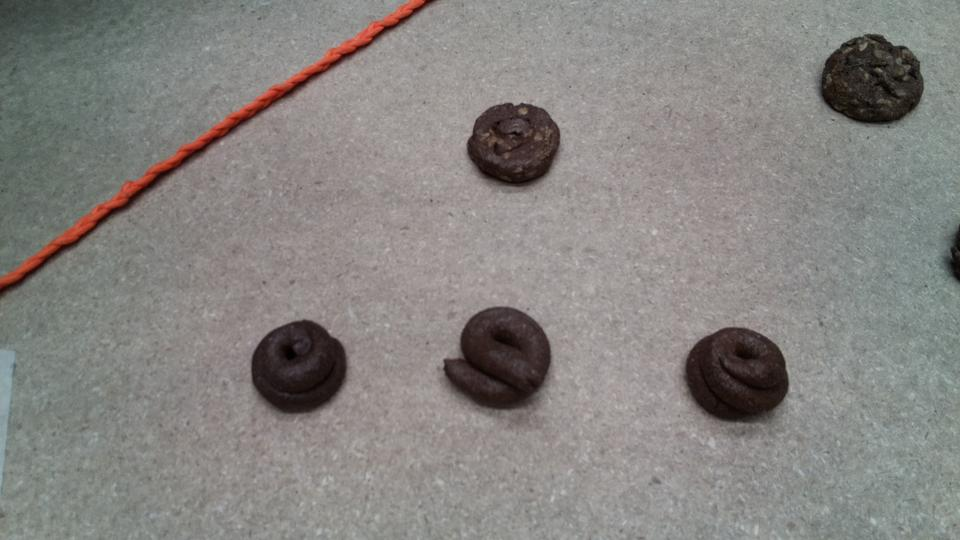poop: (444, 302, 558, 415), (813, 27, 929, 130), (684, 320, 795, 423), (247, 319, 354, 417), (469, 101, 566, 188)
rope: (85, 151, 194, 247), (173, 82, 288, 172), (4, 204, 95, 306), (257, 31, 373, 107), (328, 2, 449, 59)
